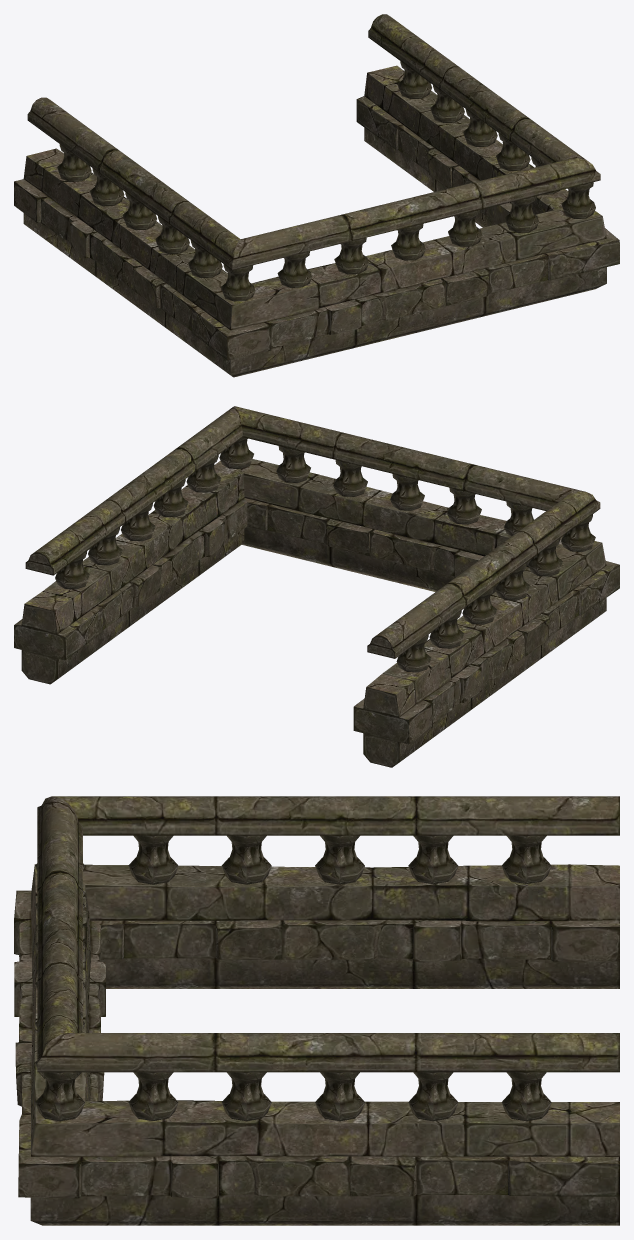
Rendered from Railing_Corner_03-transformed.glb.
3 renders of one model, top to bottom at view 1: azimuth 30°, elevation 25°; view 2: azimuth 150°, elevation 25°; view 3: azimuth 270°, elevation 25°, orthographic. The views are drawn at different scales.
Parts seen in each view (by area): view 1: default; view 2: default; view 3: default.
Part boxes in pixels (<box>): default: <box>14,14,619,377</box>; default: <box>14,406,619,767</box>; default: <box>14,796,619,1225</box>.
Bounding box in the file's own units: 6.99 × 2.17 × 6.5.
1 material, 1 textured.
